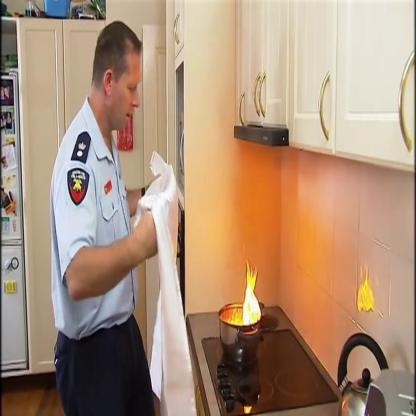Fire: (221, 250, 263, 324)
